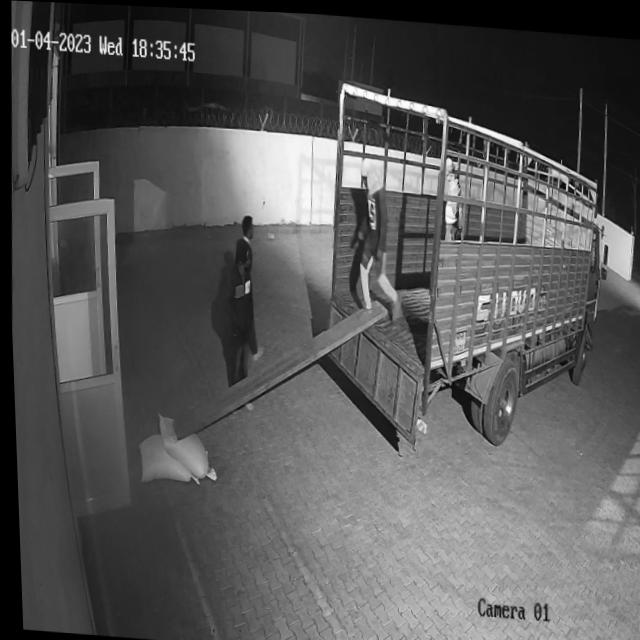sack: (152, 410, 214, 479), (133, 430, 197, 483)
